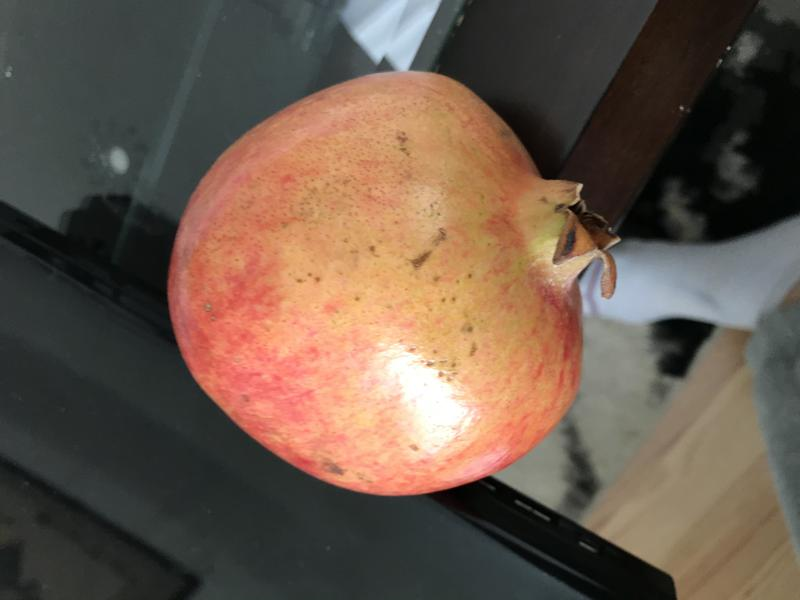pomegranate: (151, 57, 632, 520)
